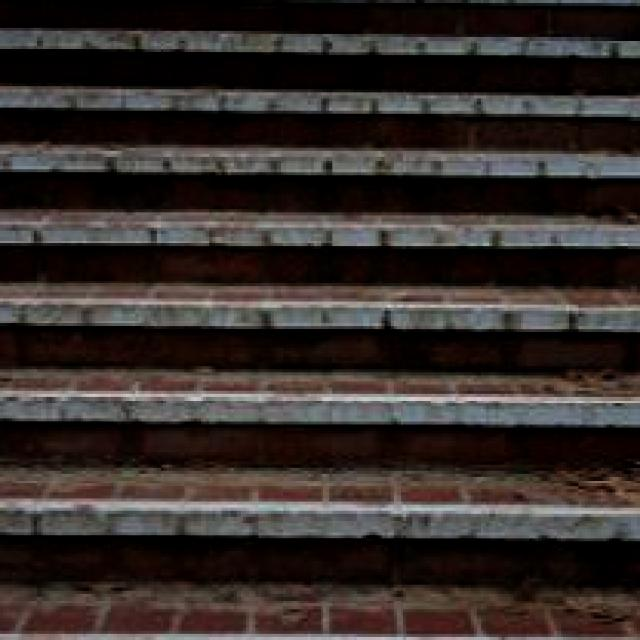upstair: (1, 133, 623, 601)
